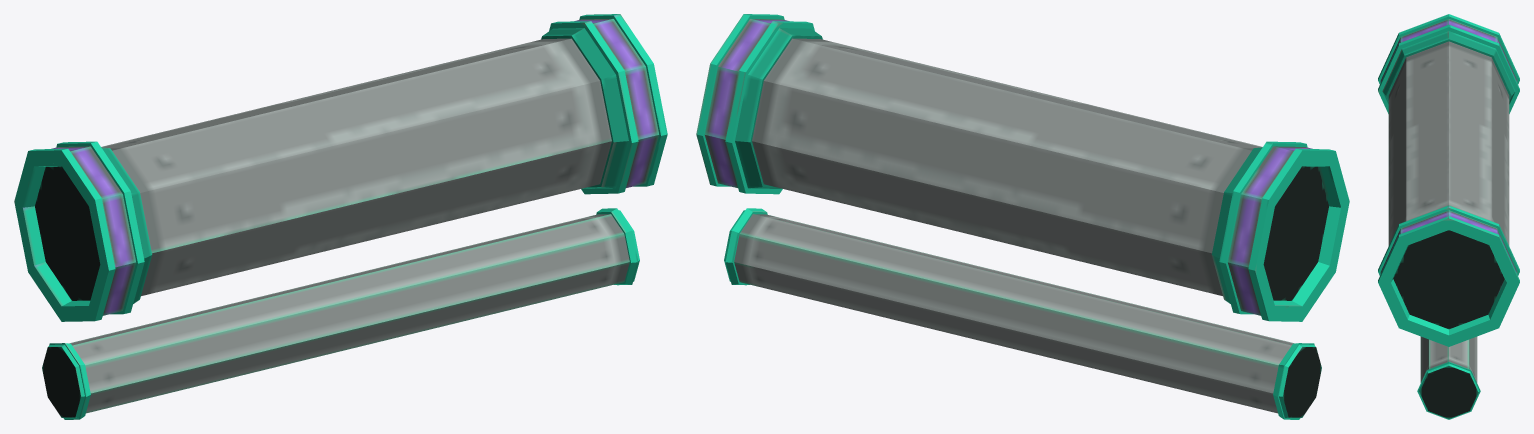
The model's file is pipe_straight.fbx.
3 renders of one model, left to right at view 1: azimuth 30°, elevation 25°; view 2: azimuth 150°, elevation 25°; view 3: azimuth 270°, elevation 25°, orthographic. The views are drawn at different scales.
Parts seen in each view (by area): view 1: Object001; view 2: Object001; view 3: Object001.
Boxes of the visible parts, x1=… form: Object001: x1=14, y1=14, x2=667, y2=419; Object001: x1=696, y1=14, x2=1349, y2=419; Object001: x1=1378, y1=14, x2=1519, y2=419.
Bounding box in the file's own units: 254 × 117 × 74.5.
1 material, 1 textured.
